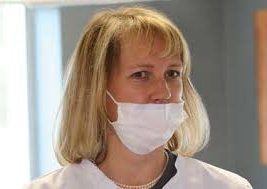mask_weared_incorrect: (103, 16, 190, 161)
